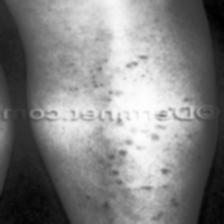Toxin: (83, 202, 182, 224), (106, 164, 166, 196), (106, 125, 168, 153), (61, 61, 114, 91), (114, 52, 154, 72), (179, 92, 217, 104), (103, 87, 123, 97)
